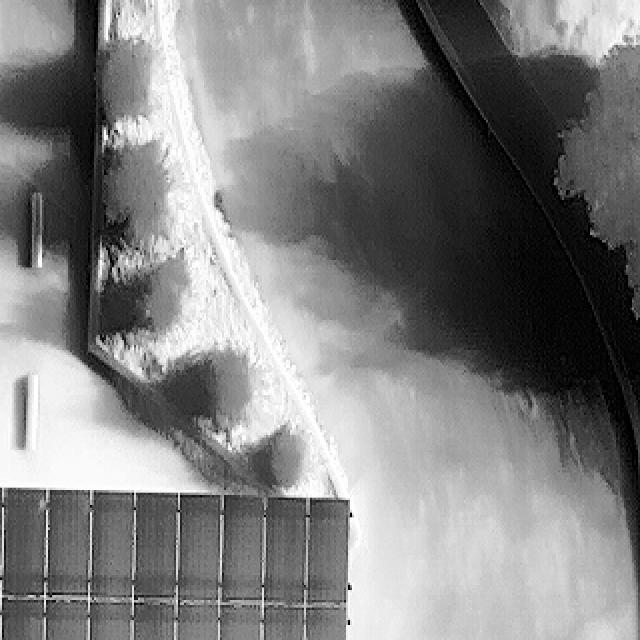PV-modules: (177, 492, 234, 600), (258, 493, 306, 603), (4, 485, 49, 598), (128, 489, 174, 598), (90, 493, 136, 602), (45, 491, 90, 601), (222, 497, 266, 606), (307, 499, 351, 606), (45, 598, 90, 640), (0, 597, 42, 640), (218, 602, 264, 640), (90, 601, 134, 640), (132, 602, 176, 640), (175, 603, 219, 640), (262, 606, 307, 640), (305, 607, 351, 640), (0, 597, 2, 640)
